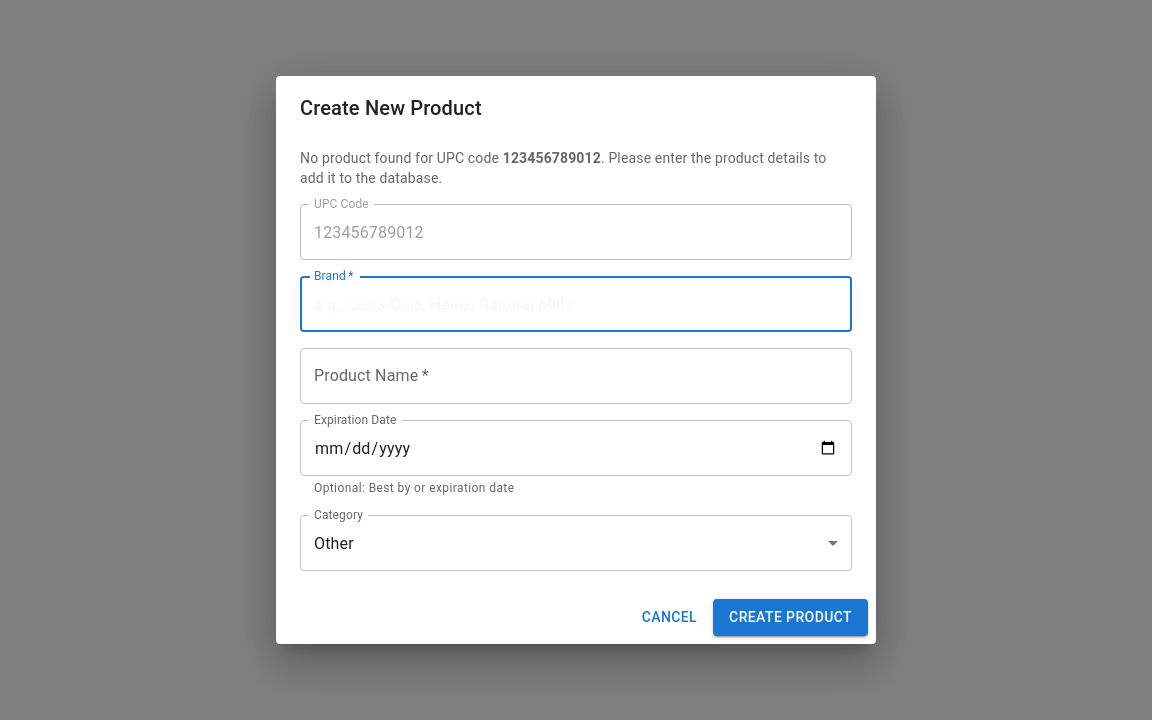
Test: CreateProductDialog › clears error when form is resubmitted with valid data
# Submit with empty brand to trigger error
Click the button with test id "create-product-submit-button".
click(791, 617)  # box [713,599,868,636]
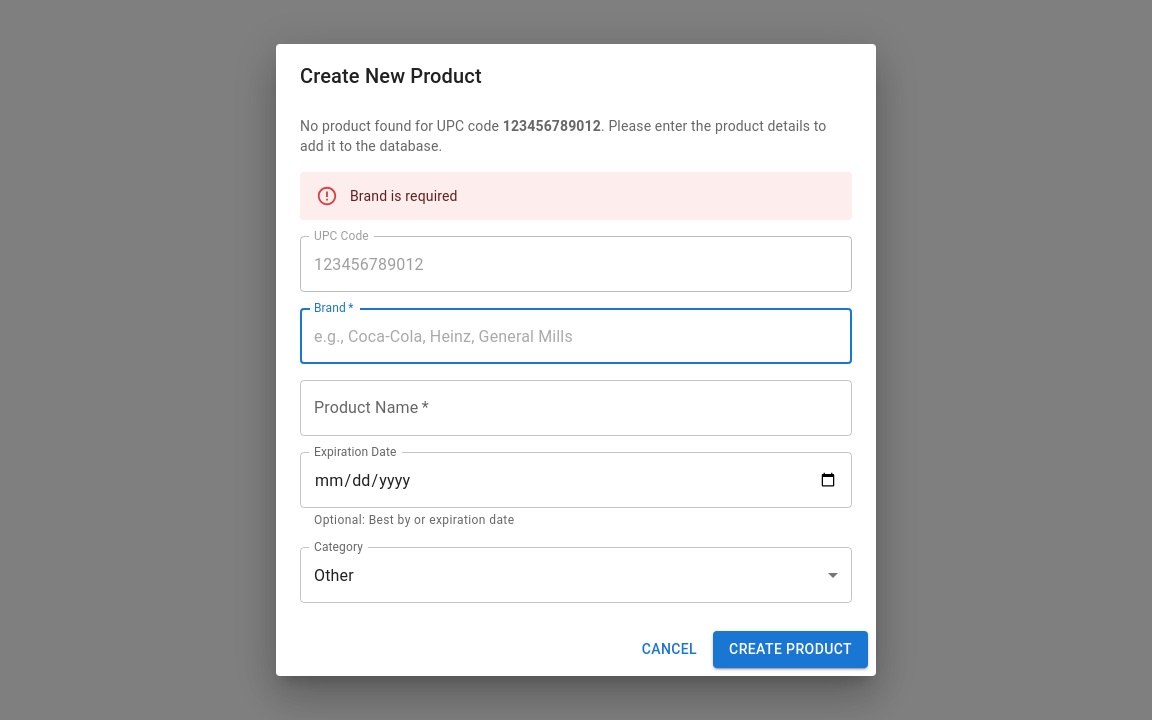
Result: the text "Brand is required" is shown at [350,188,458,204]
Type "Test Brand" into the field labelled "Brand *".
click(576, 336); type("Test Brand")  # box [300,308,852,364]
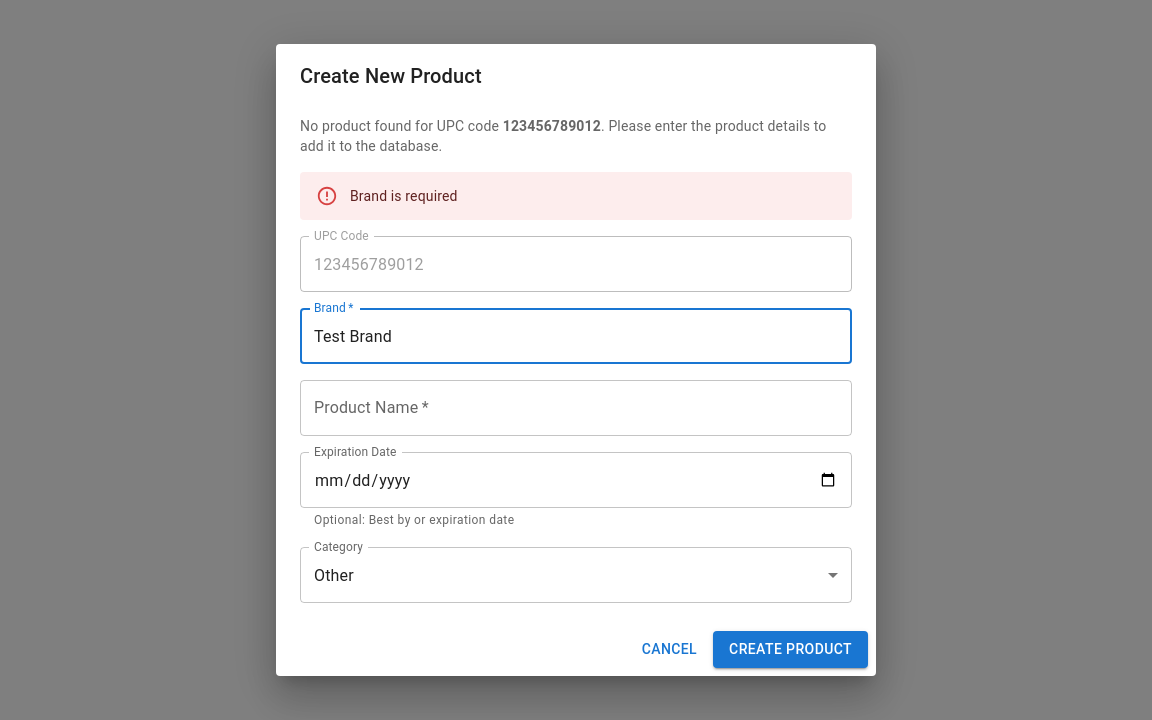
Type "Test Product" into the field labelled "Product Name *".
click(576, 408); type("Test Product")  # box [300,380,852,436]
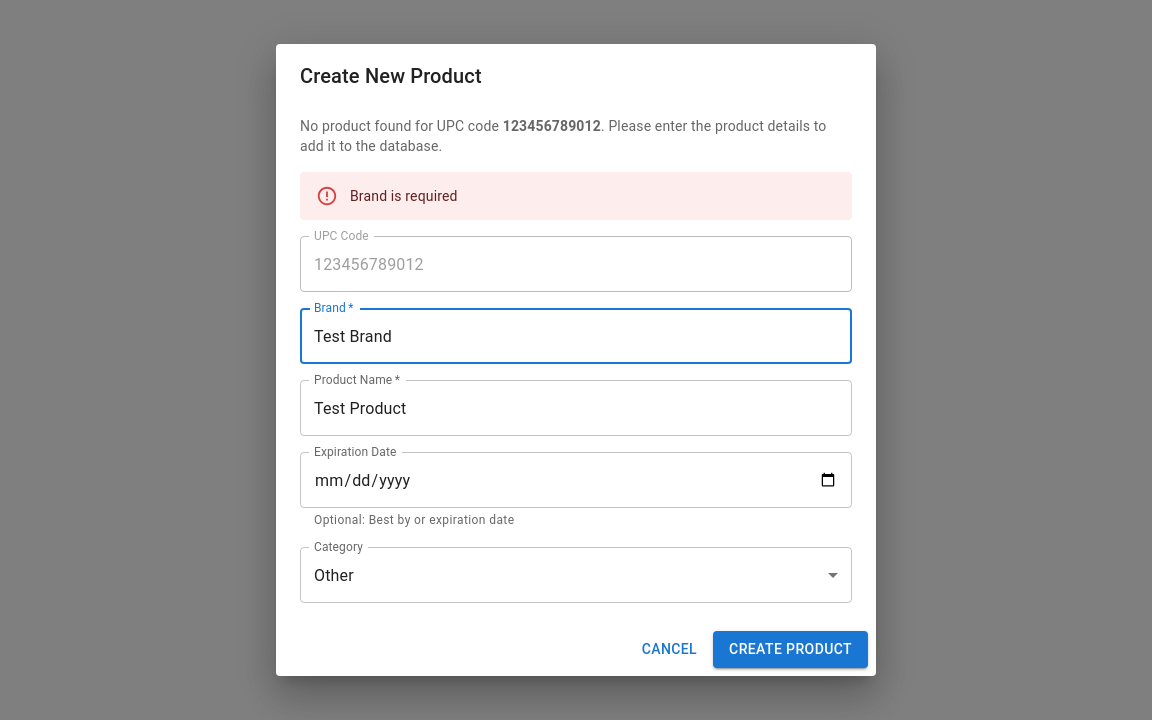
# Submit again
Click the button with test id "create-product-submit-button".
click(791, 649)  # box [713,631,868,668]
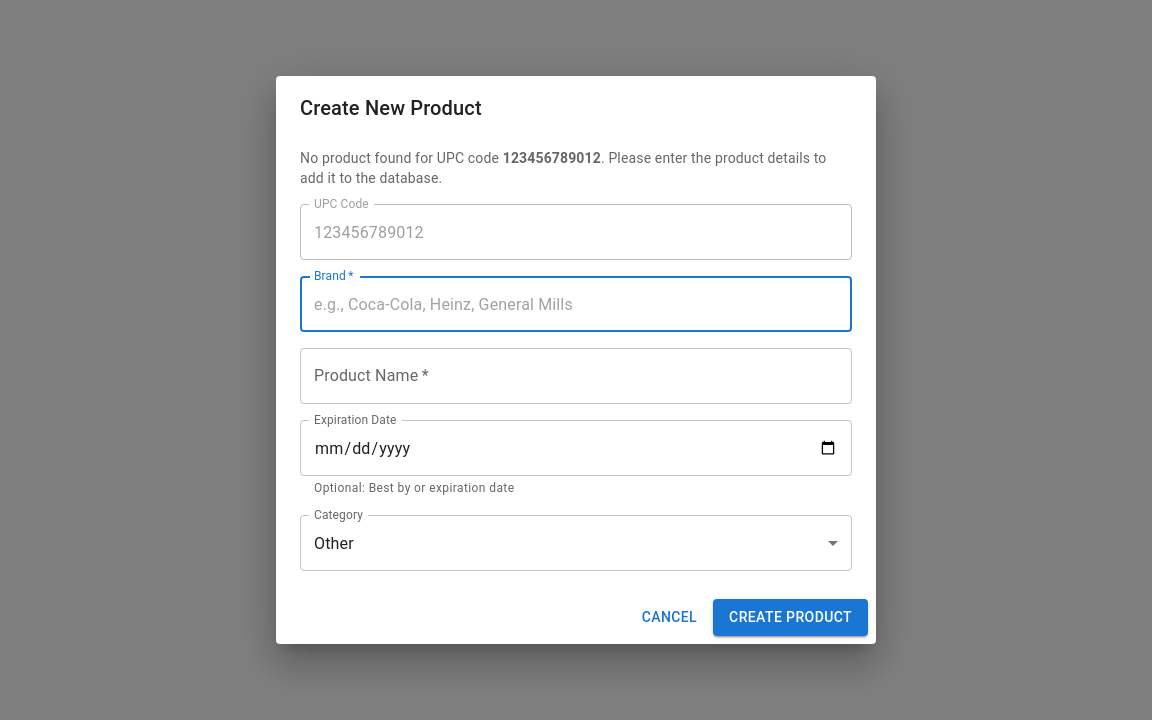
Result: the text "Brand is required" is gone
